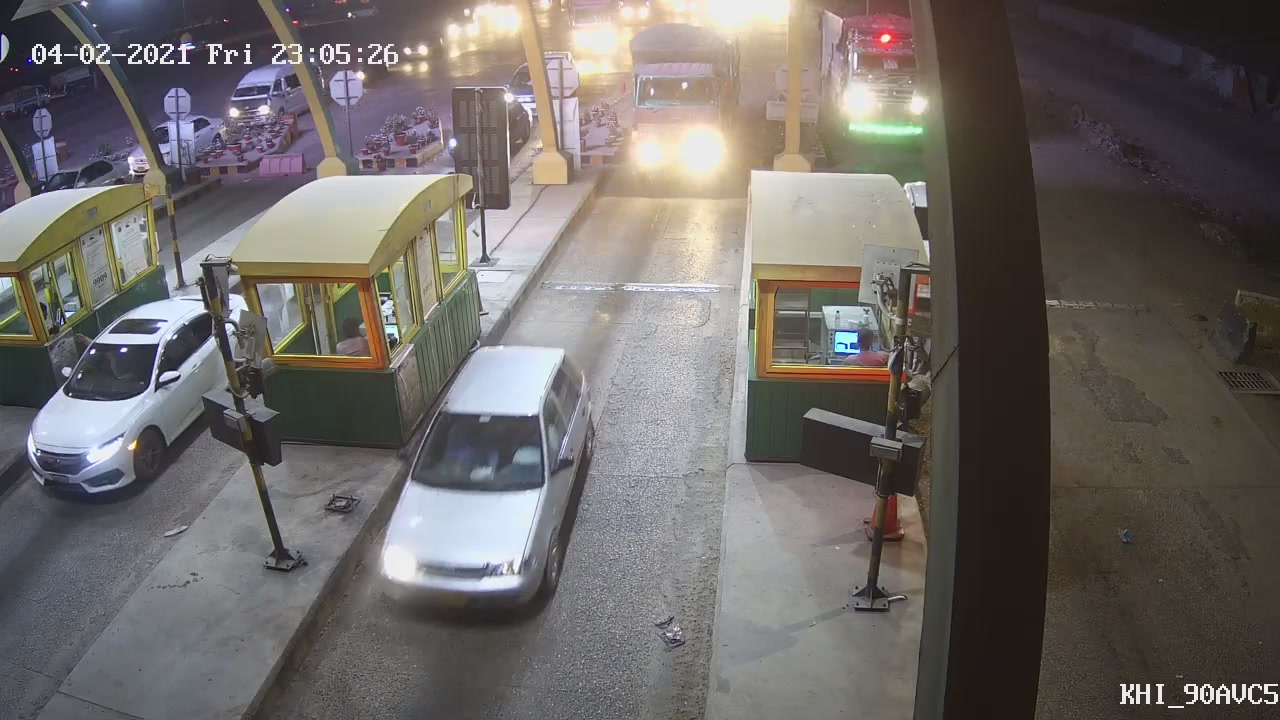F1: (370, 336, 603, 616)
